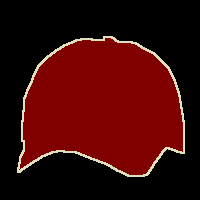hat: (18, 37, 184, 176)
